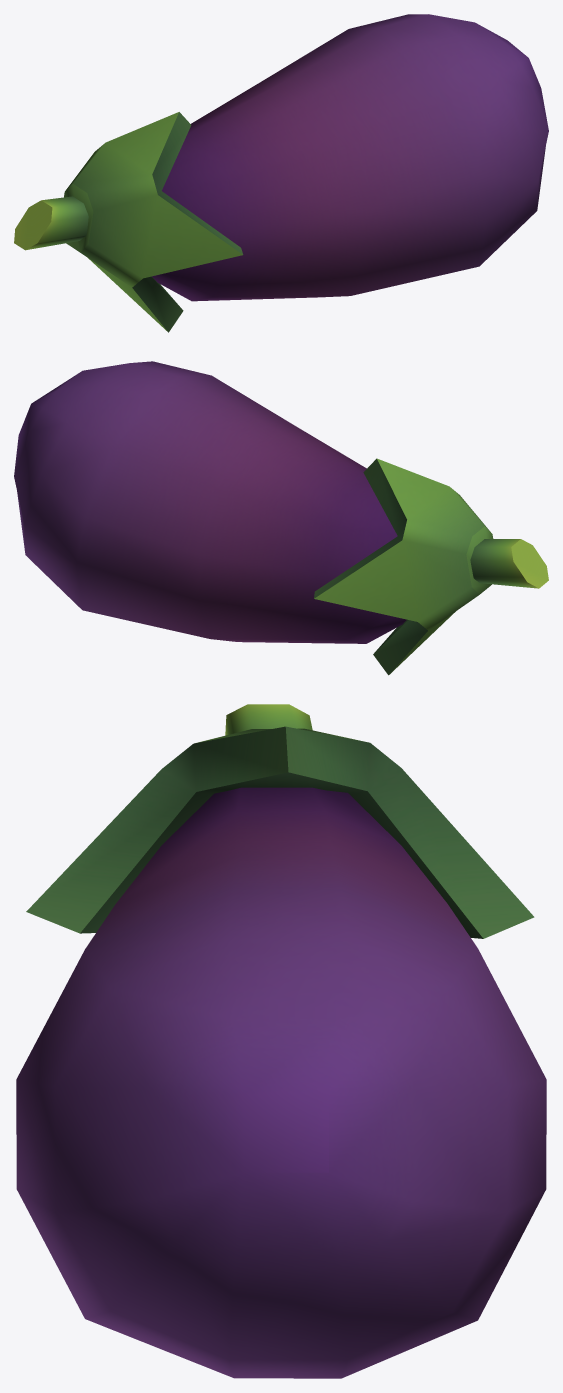
File: eggplant.fbx
The picture shows the model from 3 angles, top to bottom: view 1: azimuth 30°, elevation 25°; view 2: azimuth 150°, elevation 25°; view 3: azimuth 270°, elevation 25°; orthographic projection. The views are drawn at different scales.
Visible parts, largest first — view 1: eggplant; view 2: eggplant; view 3: eggplant.
Boxes of the visible parts, <box> form: eggplant: <box>14,14,548,332</box>; eggplant: <box>14,361,548,675</box>; eggplant: <box>16,704,546,1378</box>.
Size of the model in its own units: 48.82 by 21.61 by 21.98.
